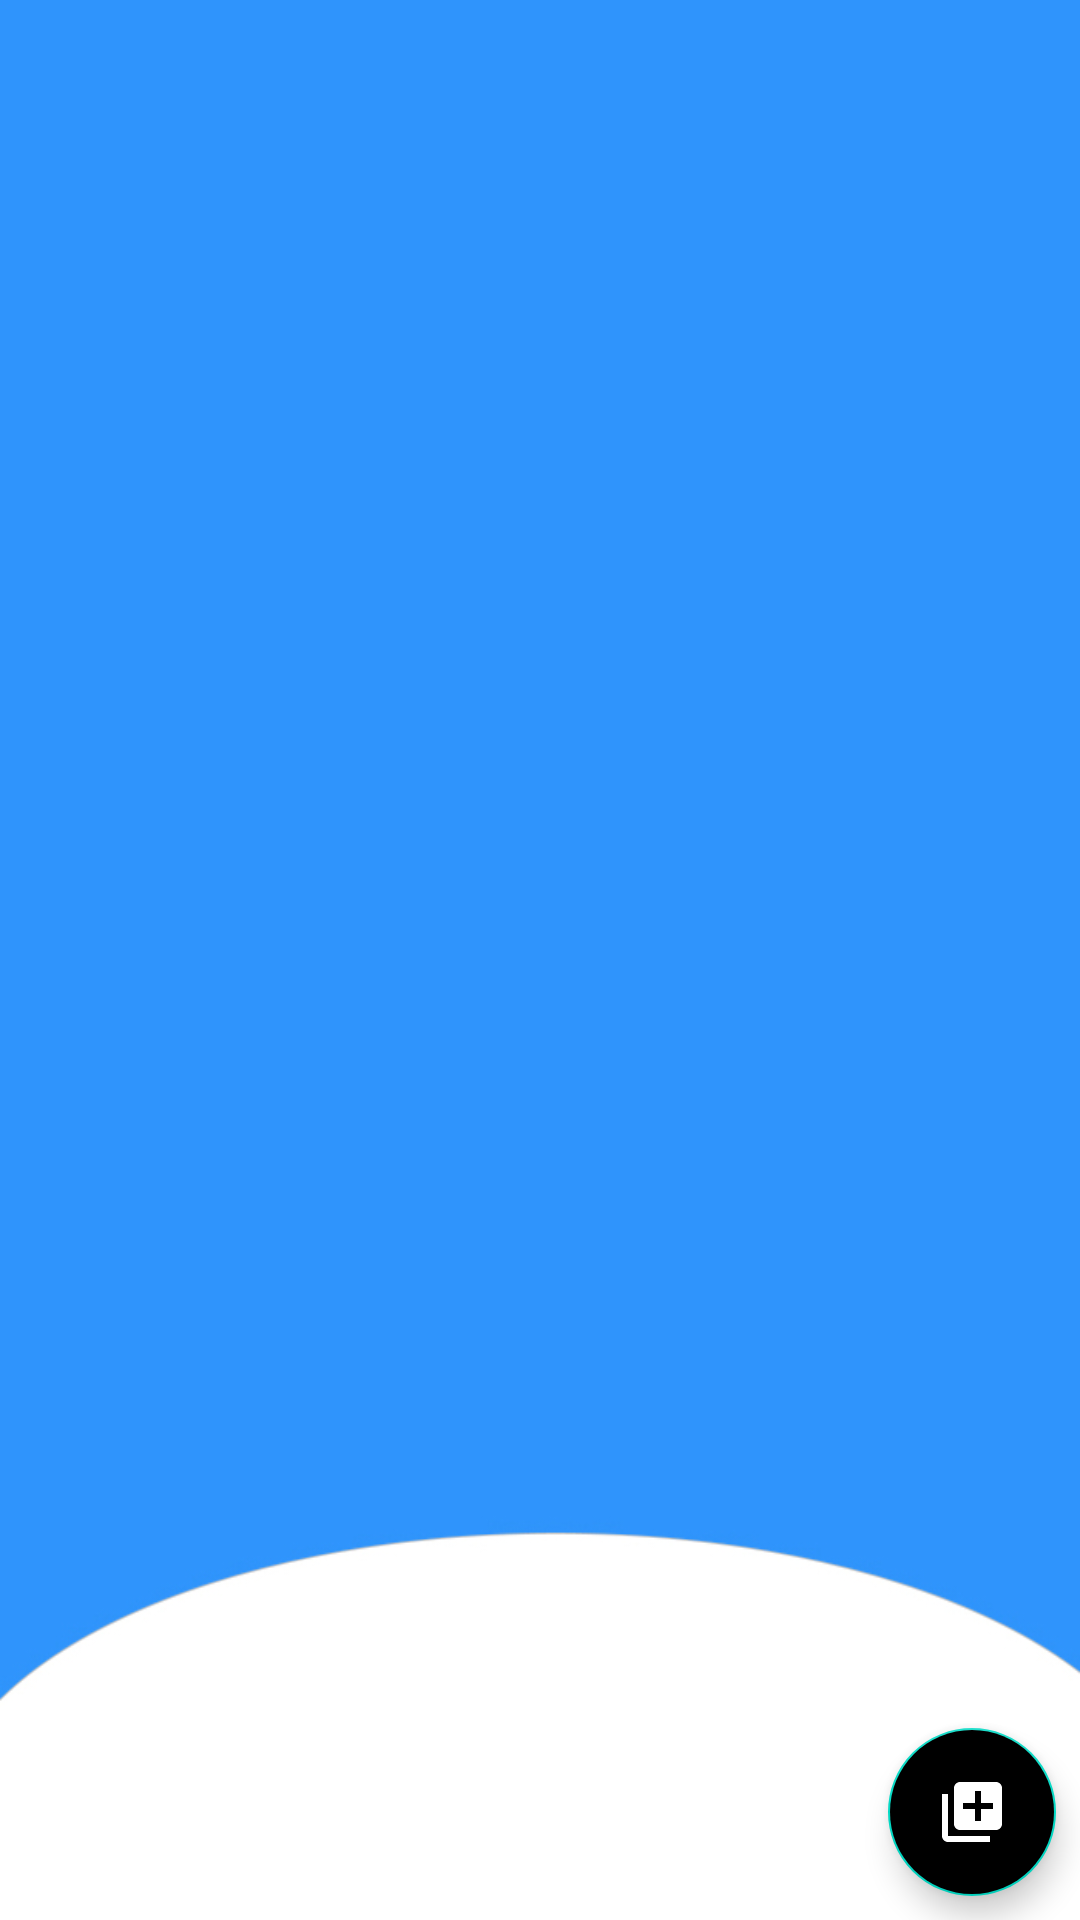

Locate icon controls on the screen. Image size 1080px x 1920px, boxes as (x1, y1, x2, y2).
library add: (888, 1728, 1056, 1896)
